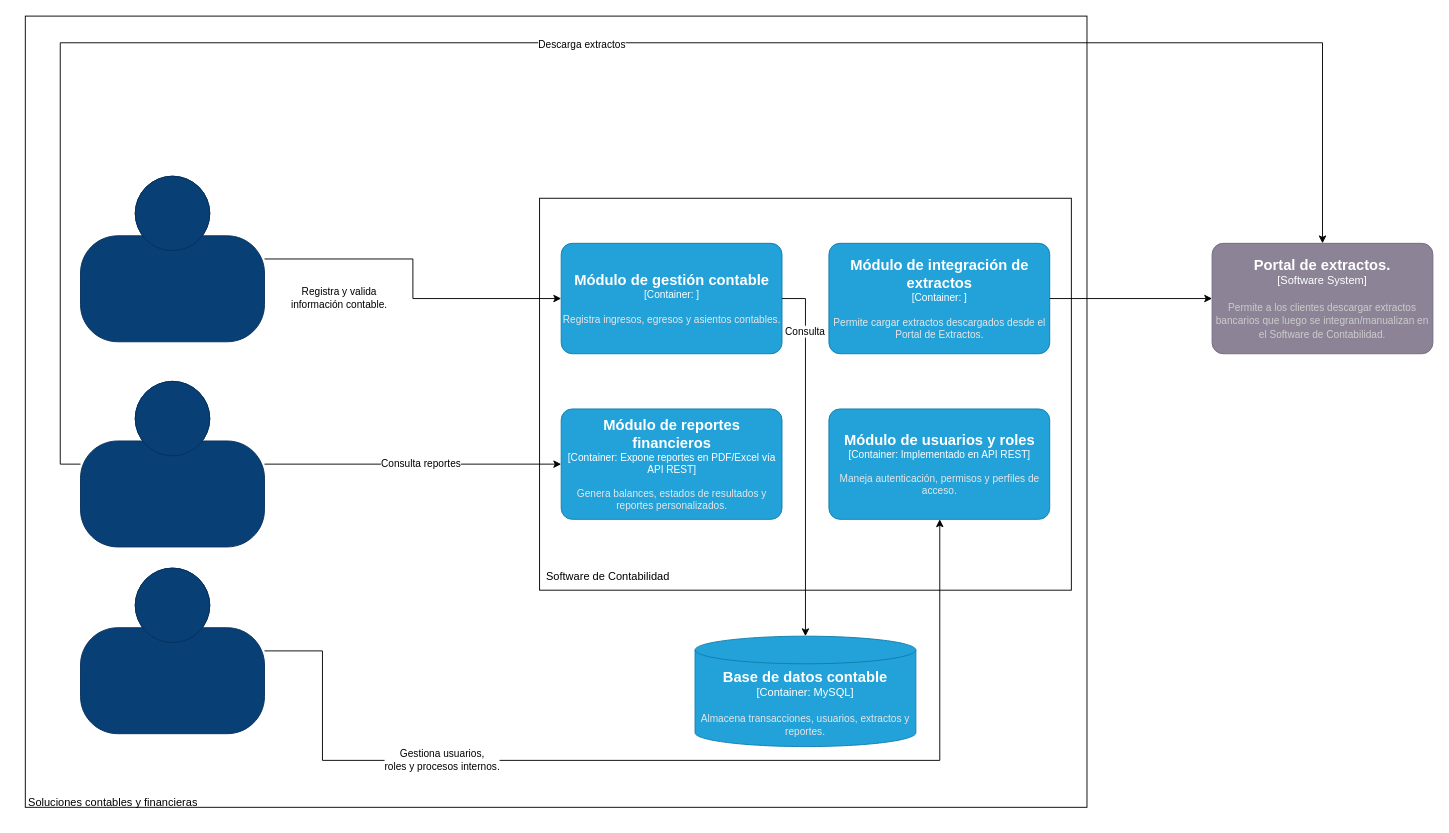
Image size: 1449x833. Some labels were removed from this diagram. Here are the shapes that lost their labels. From the top down, the centre of each, then its label:
the point at 172,258: Contador [Person] Registra y valida la información contable.
the point at 172,463: Cliente [Person] Usa el sistema para consultar sus estados financieros.
the point at 172,650: Administrador [Person] Gestiona usuarios, permisos y procesos.
